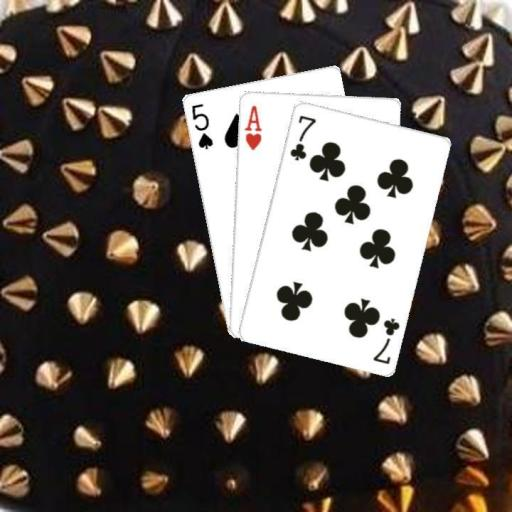card-corner: (370, 314, 401, 366), (287, 112, 317, 162), (188, 100, 214, 150), (241, 102, 263, 152)
